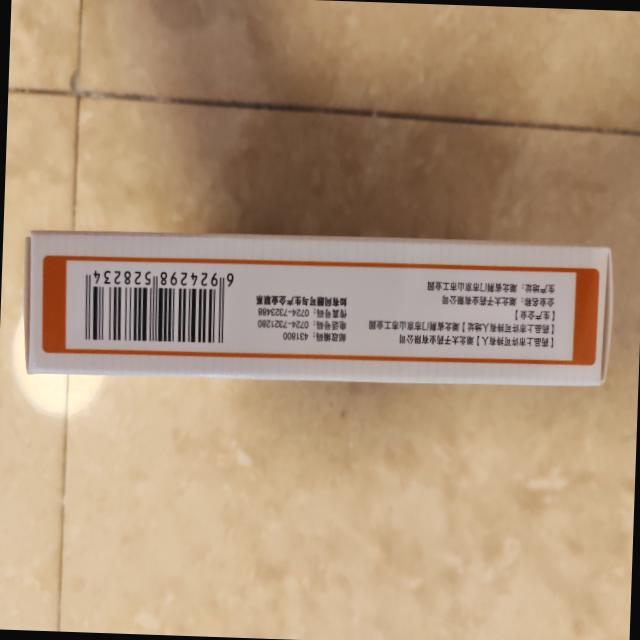box: (15, 214, 622, 412)
